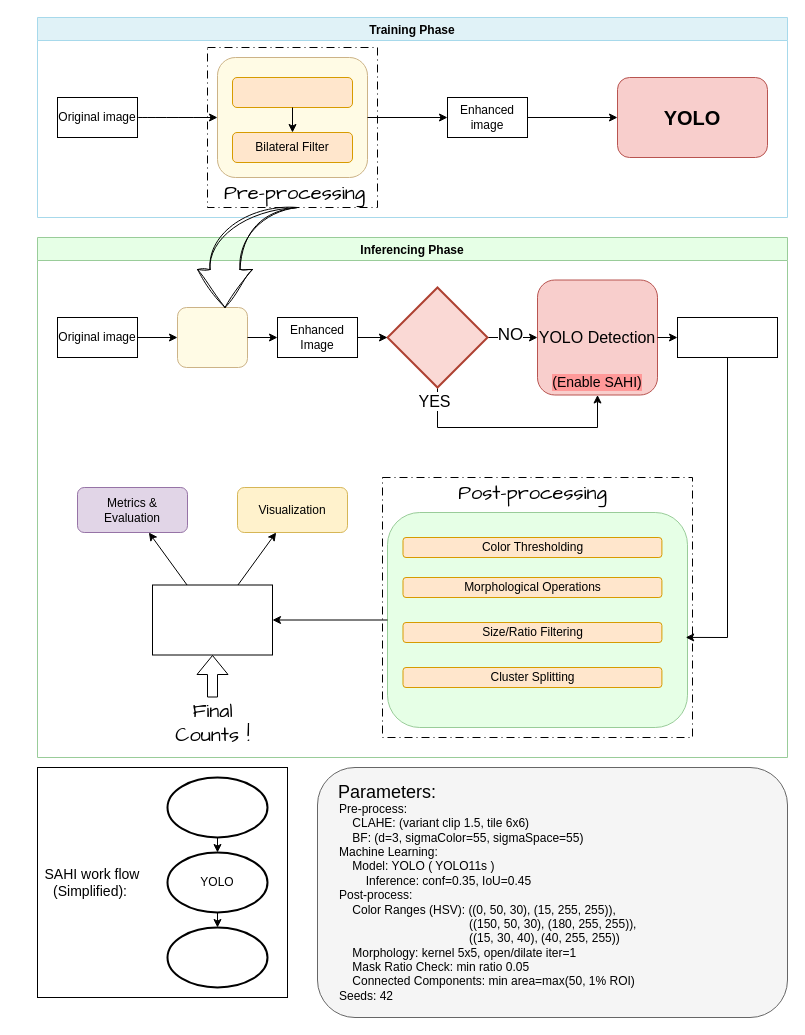
Some shapes in this 805 by 1035 pixel diagram are drawn without their labels. Here are the shapes that lost their labels. From the top down, the centre of each, then its label:
At [292,92]: "CLAHE".
At [212,337]: "Same Pre-process".
At [437,337]: "High Res?".
At [727,337]: "Raw Bounding Boxes + Confidences".
At [212,619]: "Refined Boxes".
At [217,807]: "Slice".
At [217,957]: "Merge".
